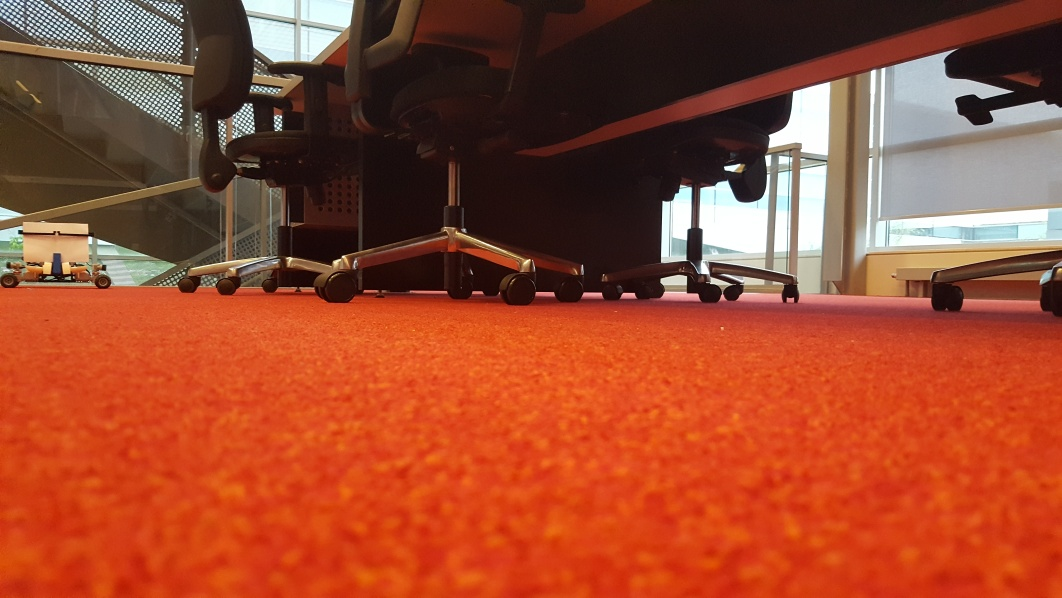car: (3, 222, 115, 292)
